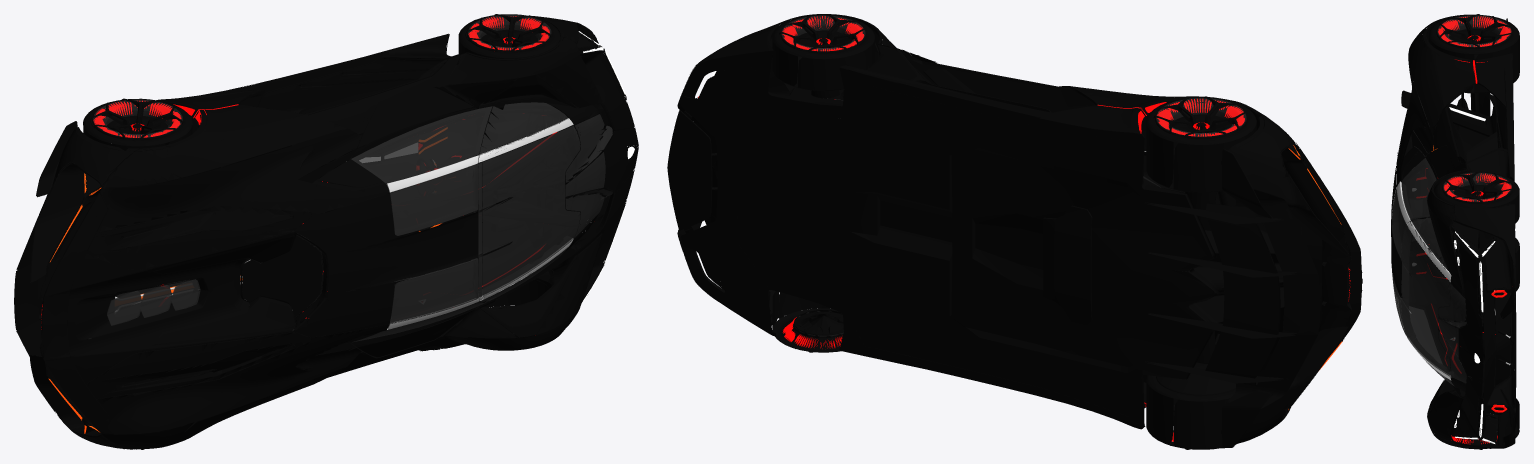
Rendered from ferzor.glb.
The picture shows the model from 3 angles, left to right: view 1: azimuth 30°, elevation 25°; view 2: azimuth 150°, elevation 25°; view 3: azimuth 270°, elevation 25°; orthographic projection. The views are drawn at different scales.
Visible parts, largest first — view 1: terzo_wire_000000000_0001, Terzo_wire_000000000_0, Terzo_glass wheel_0, BKL, Terzo_metal_0, FTR, Terzo_redlight_0; view 2: terzo_wire_000000000_0001, Terzo_wire_000000000_0, BKL, FTR; view 3: terzo_wire_000000000_0001, Terzo_wire_000000000_0, Terzo_glass wheel_0, BKL, FTR, Terzo_redlight_0, Terzo_metal_0.
Part boxes in pixels (bbox=[...]): terzo_wire_000000000_0001: bbox=[14, 20, 638, 448]; Terzo_wire_000000000_0: bbox=[15, 16, 637, 449]; Terzo_glass wheel_0: bbox=[107, 102, 612, 342]; BKL: bbox=[83, 14, 560, 449]; Terzo_metal_0: bbox=[245, 118, 573, 329]; FTR: bbox=[93, 16, 549, 137]; Terzo_redlight_0: bbox=[41, 31, 634, 433]; terzo_wire_000000000_0001: bbox=[677, 14, 1362, 448]; Terzo_wire_000000000_0: bbox=[667, 17, 1361, 443]; BKL: bbox=[772, 14, 1256, 449]; FTR: bbox=[782, 16, 1244, 441]; terzo_wire_000000000_0001: bbox=[1391, 14, 1515, 446]; Terzo_wire_000000000_0: bbox=[1397, 54, 1516, 448]; Terzo_glass wheel_0: bbox=[1391, 158, 1471, 386]; BKL: bbox=[1428, 14, 1519, 449]; FTR: bbox=[1438, 16, 1511, 444]; Terzo_redlight_0: bbox=[1416, 59, 1507, 443]; Terzo_metal_0: bbox=[1396, 181, 1510, 380].
Size of the model in its own units: 6.44 by 3.05 by 1.37.
